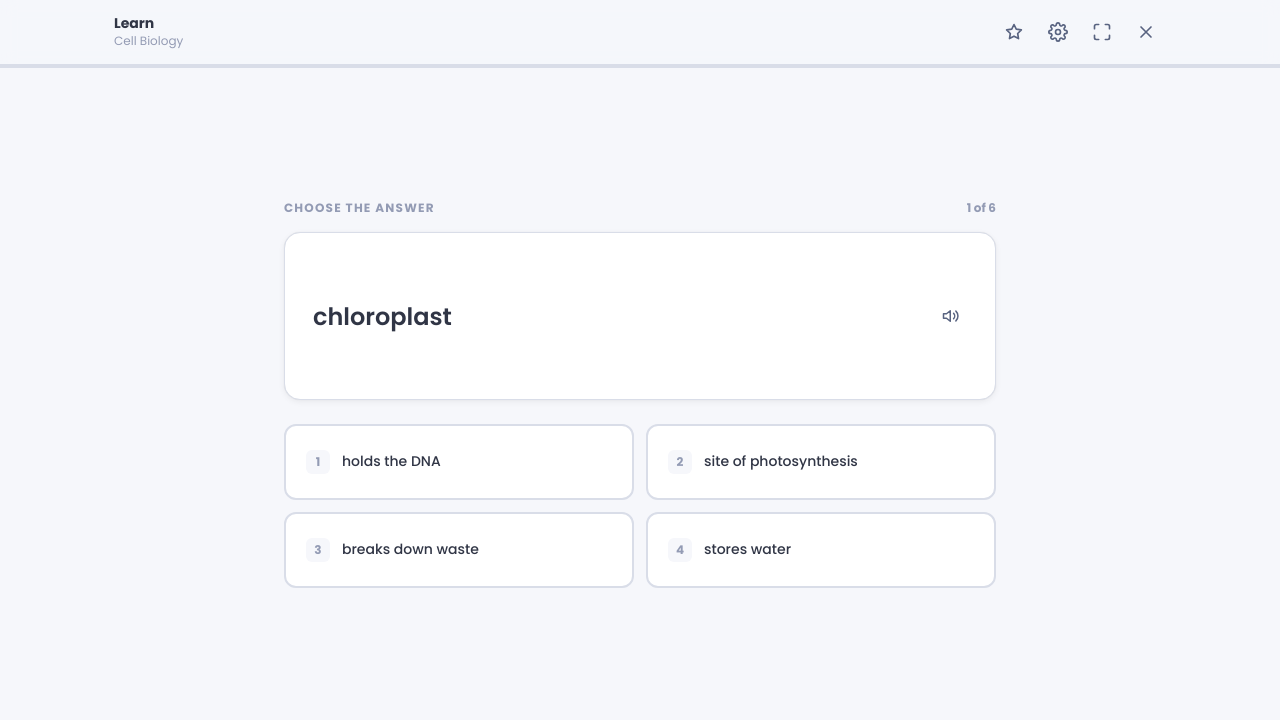
Test: Learn › advances to the next question on continue
Expected: the text "1 of 6" is shown, [967,200,996,216]
Click the button "1 holds the DNA" at (391, 461), box [284,424,634,500]
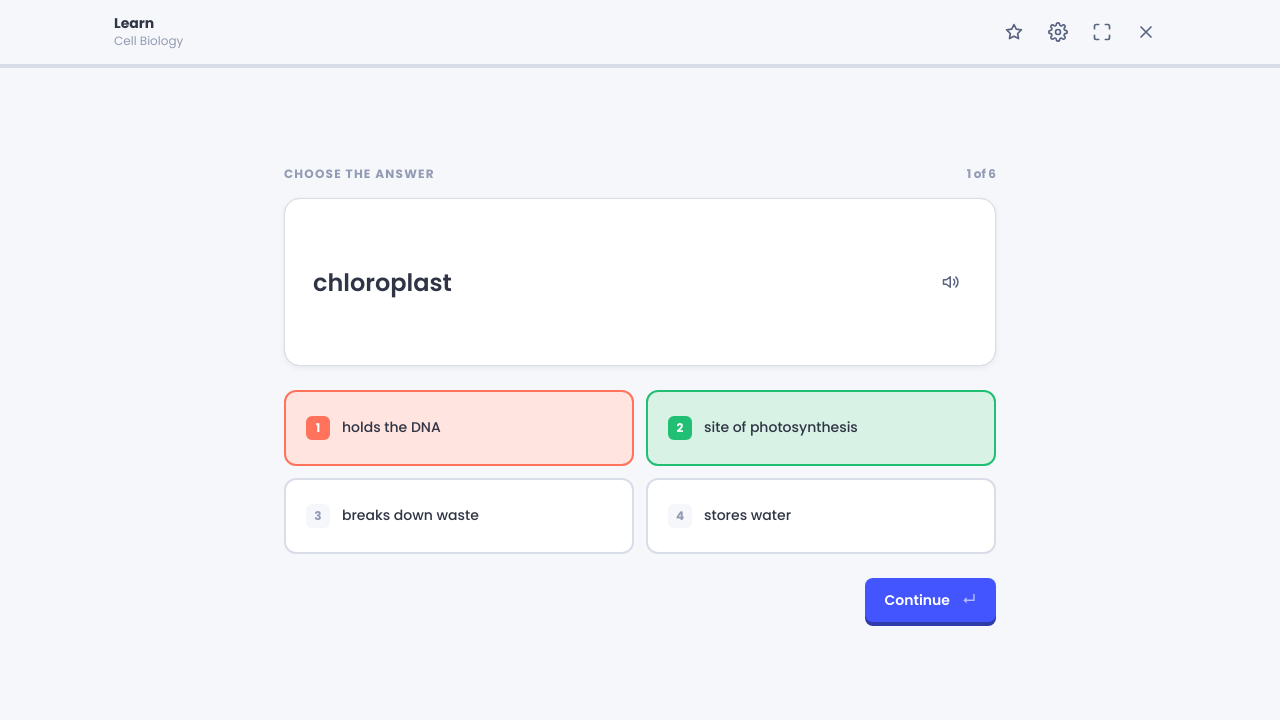
Click the button "Continue ↵" at (930, 600), box [864,578,996,622]
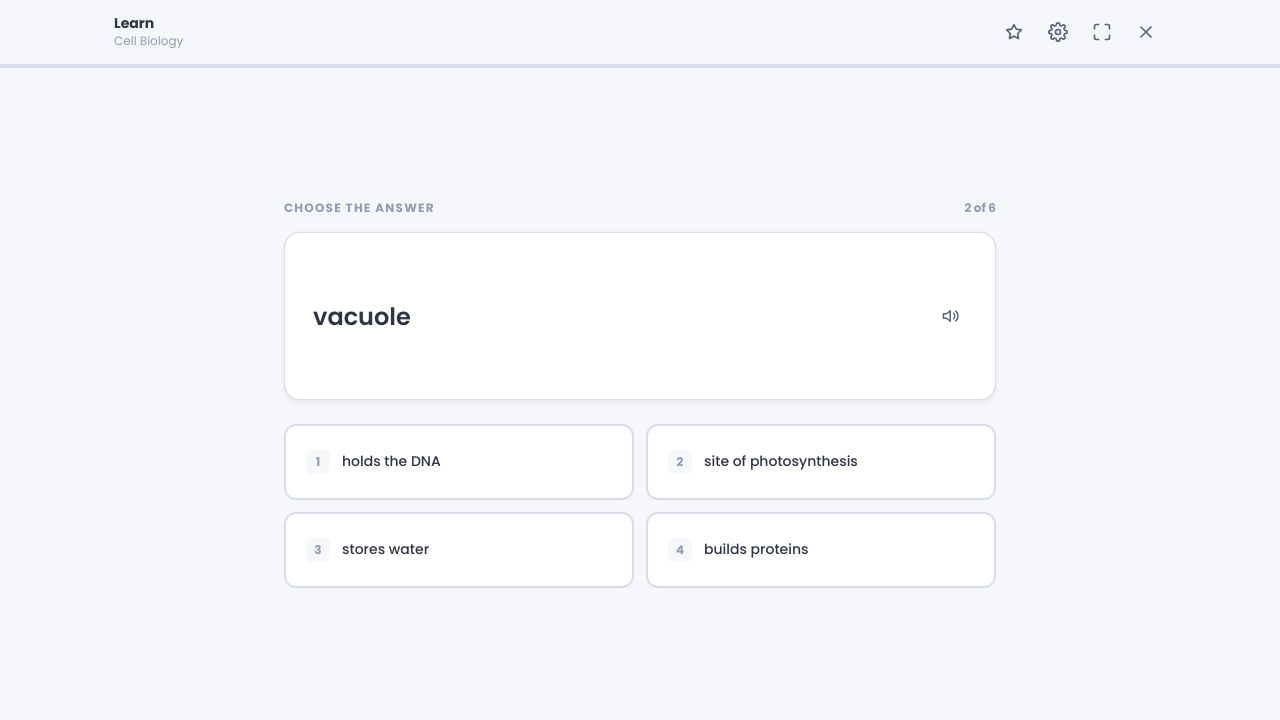
Now the text "2 of 6" is shown, box [964,200,996,216]
